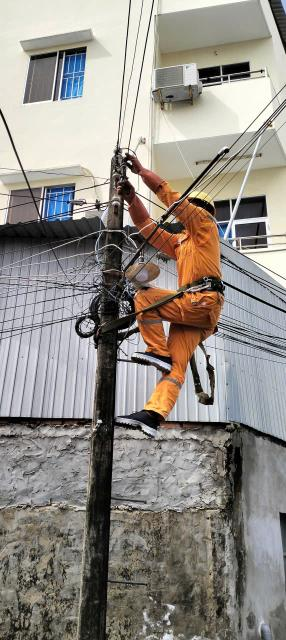gloves: (119, 150, 171, 194), (114, 178, 148, 231)
harness: (174, 270, 236, 301)
helmet: (181, 183, 222, 218)
shoes: (113, 406, 169, 440), (131, 343, 176, 377)
